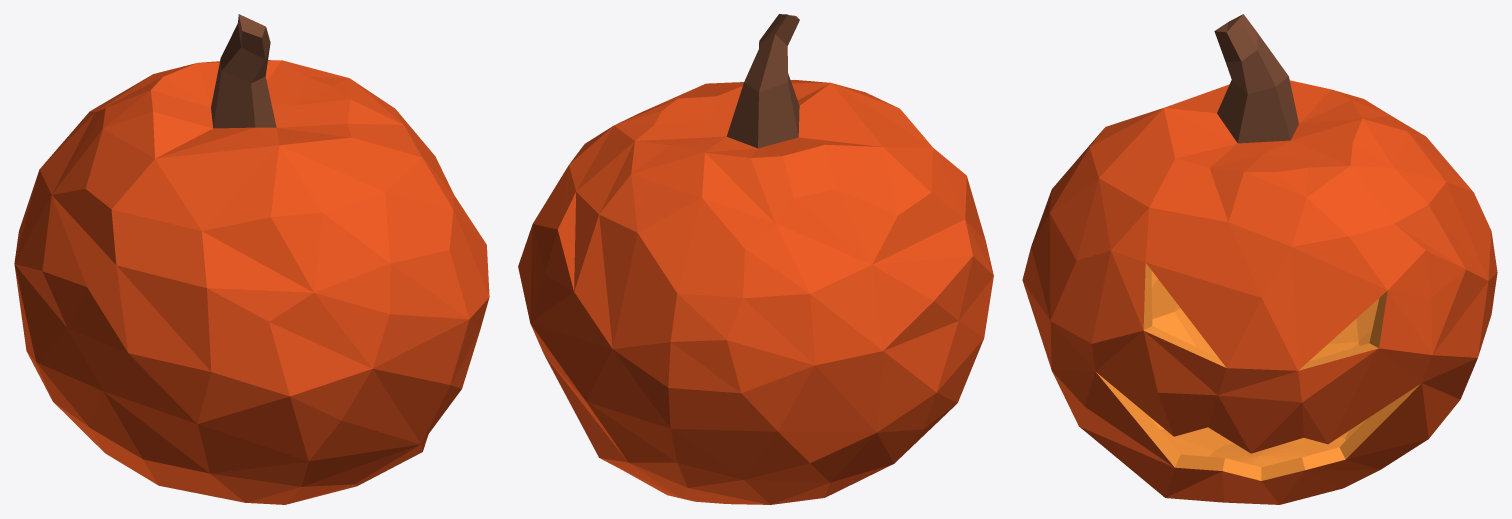
Rendered from jackOLanternAngry2.fbx.
The picture shows the model from 3 angles, left to right: view 1: azimuth 30°, elevation 25°; view 2: azimuth 150°, elevation 25°; view 3: azimuth 270°, elevation 25°; orthographic projection. The views are drawn at different scales.
Parts seen in each view (by area): view 1: pSphere6; view 2: pSphere6; view 3: pSphere6.
Boxes of the visible parts, bbox=[...] form: pSphere6: bbox=[14, 14, 489, 504]; pSphere6: bbox=[518, 14, 993, 504]; pSphere6: bbox=[1022, 14, 1497, 504].
Bounding box in the file's own units: 1.81 × 1.98 × 1.96.
